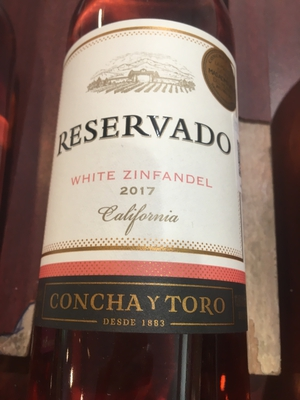reservado white zinfandel: (39, 10, 259, 393)
